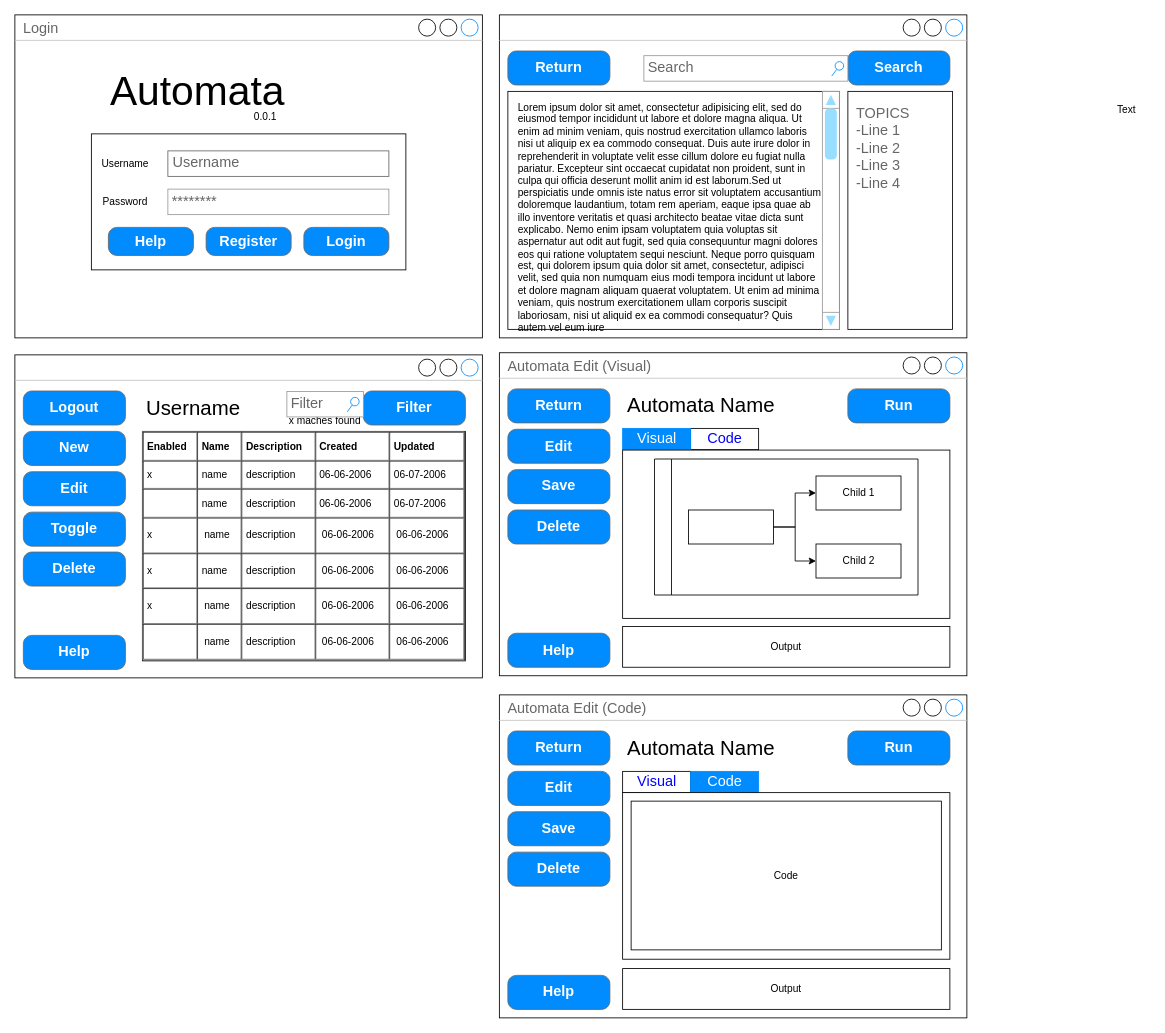
The diagram is 1165 pixels wide and 1033 high, and some of its shapes have lost their labels. The shapes that lost their labels are listed below. From the top down, each one's box as (x1, y1, x2, y2) in pixels, then its label:
(499, 14, 967, 338): Automata Help
(14, 354, 482, 678): Automata Select
(688, 509, 774, 544): Root
(654, 458, 918, 595): Horizontal Tree Layout
